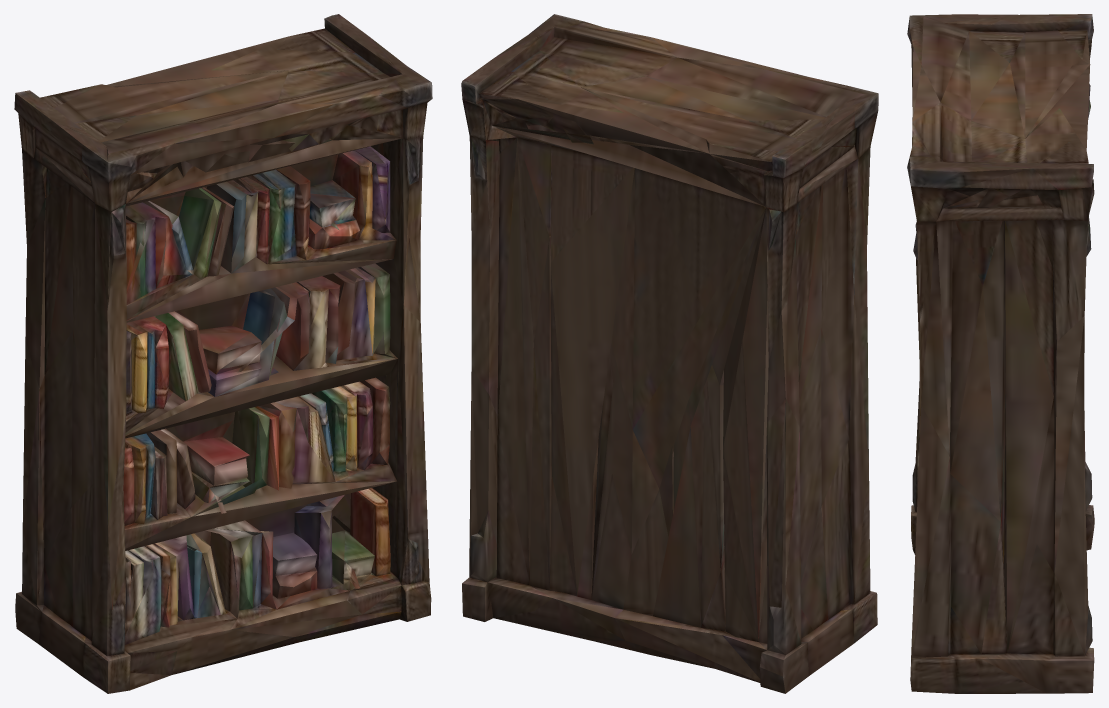
Rendered from bookshelf_3d.glb.
The picture shows the model from 3 angles, left to right: view 1: azimuth 30°, elevation 25°; view 2: azimuth 150°, elevation 25°; view 3: azimuth 270°, elevation 25°; orthographic projection. The views are drawn at different scales.
Visible parts, largest first — view 1: Mesh_0; view 2: Mesh_0; view 3: Mesh_0.
Boxes of the visible parts, box(x1,y1,x2,y2) form: Mesh_0: box(14, 14, 432, 693); Mesh_0: box(461, 14, 878, 693); Mesh_0: box(907, 14, 1094, 693).
Bounding box in the file's own units: 1 × 1.56 × 0.505.
1 material, 1 textured.
